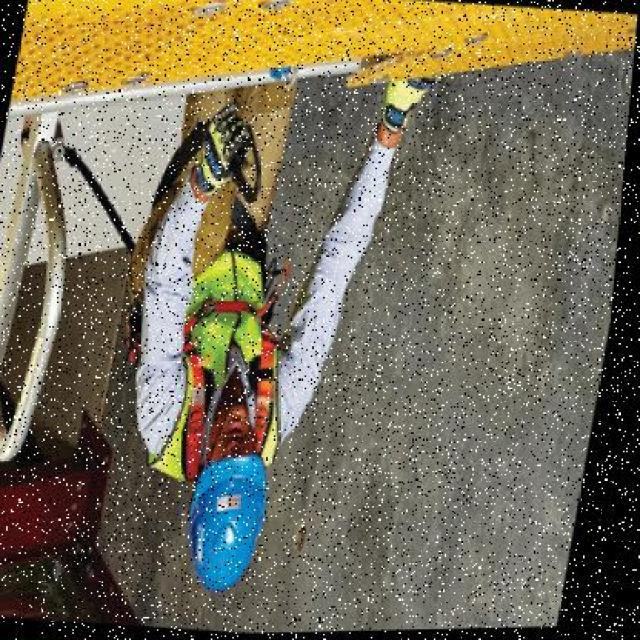helmet: (182, 446, 293, 603)
vest: (160, 240, 319, 467)
